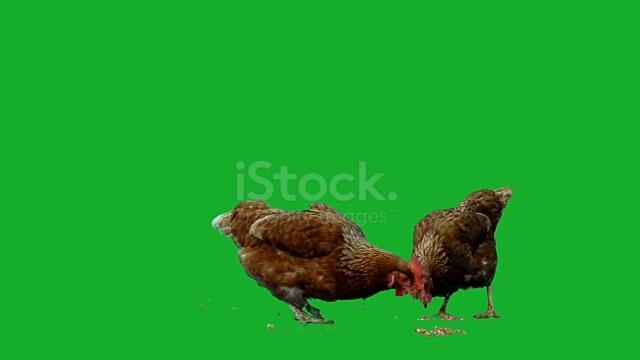Normal: (212, 192, 425, 328), (402, 185, 525, 325)
